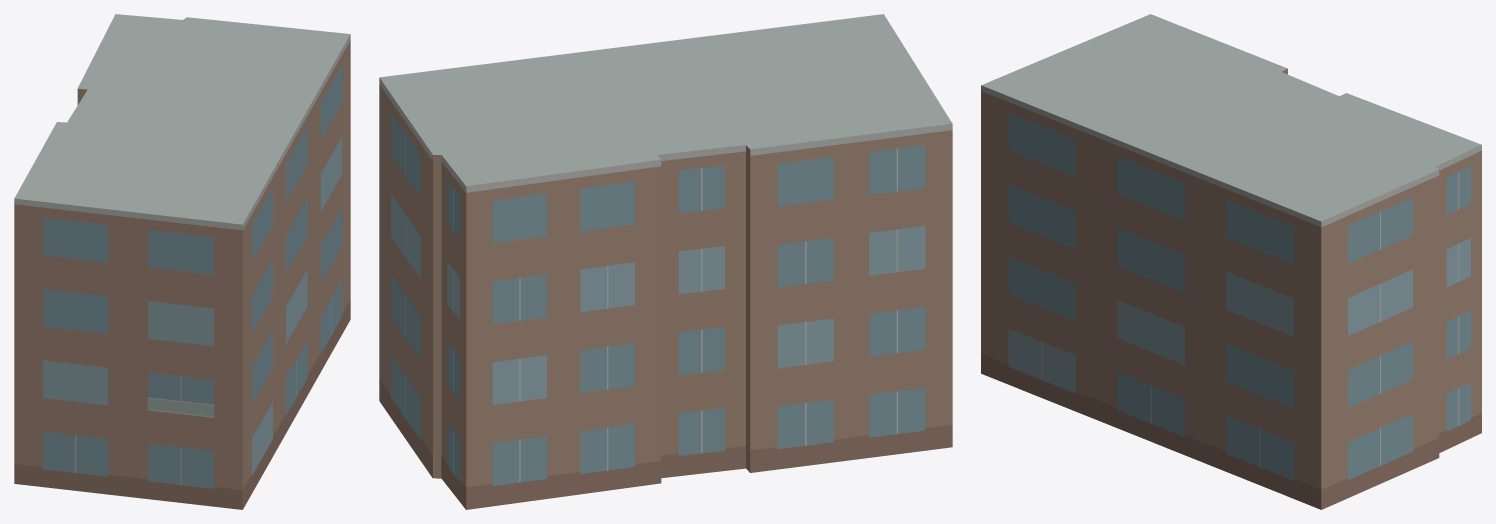
The model's file is survey-upis-32626935.glb.
3 renders of one model, left to right at view 1: azimuth 30°, elevation 25°; view 2: azimuth 150°, elevation 25°; view 3: azimuth 270°, elevation 25°, orthographic. The views are drawn at different scales.
Visible parts, largest first — view 1: survey-upis-32626935.tmp; view 2: survey-upis-32626935.tmp; view 3: survey-upis-32626935.tmp.
Part boxes in pixels (bbox=[...]): survey-upis-32626935.tmp: bbox=[14, 14, 350, 509]; survey-upis-32626935.tmp: bbox=[379, 14, 952, 509]; survey-upis-32626935.tmp: bbox=[981, 14, 1481, 509].
Size of the model in its own units: 18.85 by 12.2 by 19.21.
